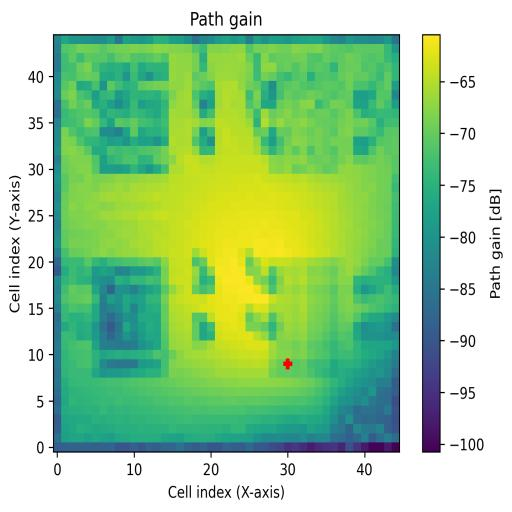Concrete: (268, 52, 339, 174)
Glass: (99, 53, 169, 173)
Metal: (268, 258, 338, 378)
Wood: (92, 258, 168, 377)
